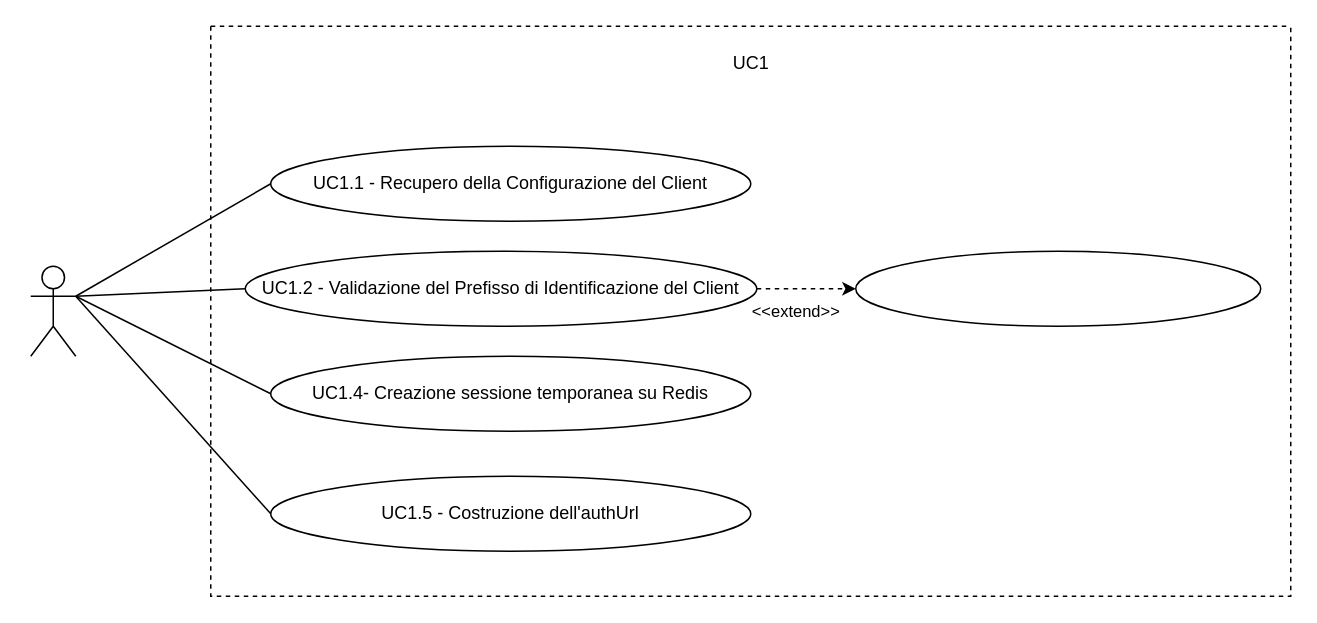
This 1317x623 diagram has some shape labels left out. Each missing label, with the box of its shape:
UC1.3 - Validazione della Trust Chain: (854, 250, 1261, 326)
Verifier: (29, 265, 76, 356)
